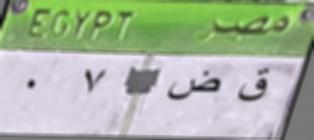0: (19, 71, 44, 97)
7: (81, 62, 107, 98)
daad: (165, 69, 222, 106)
qaaf: (234, 61, 271, 108)
